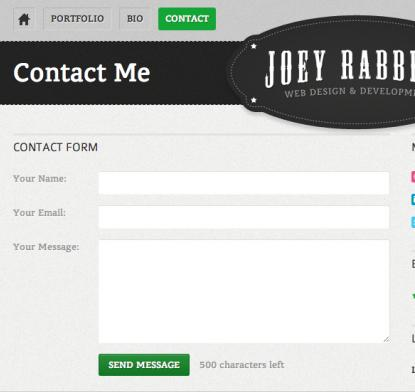button: (98, 353, 190, 376)
field: (93, 239, 390, 345), (94, 170, 391, 198), (93, 204, 390, 231)
field_with_label: (12, 237, 392, 347), (11, 167, 392, 199), (12, 203, 392, 233)
